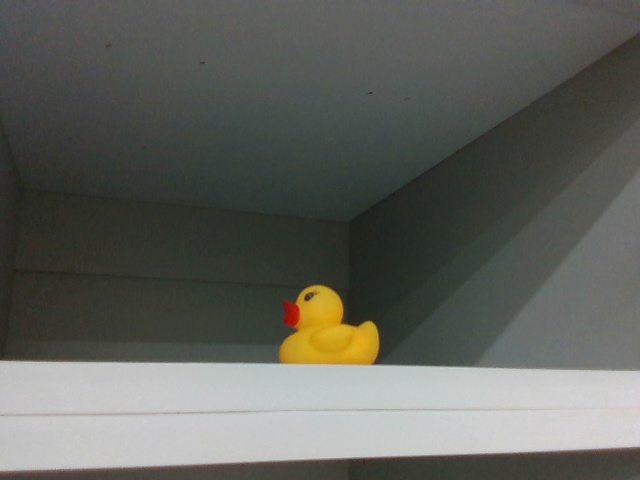duck: (271, 285, 380, 367)
